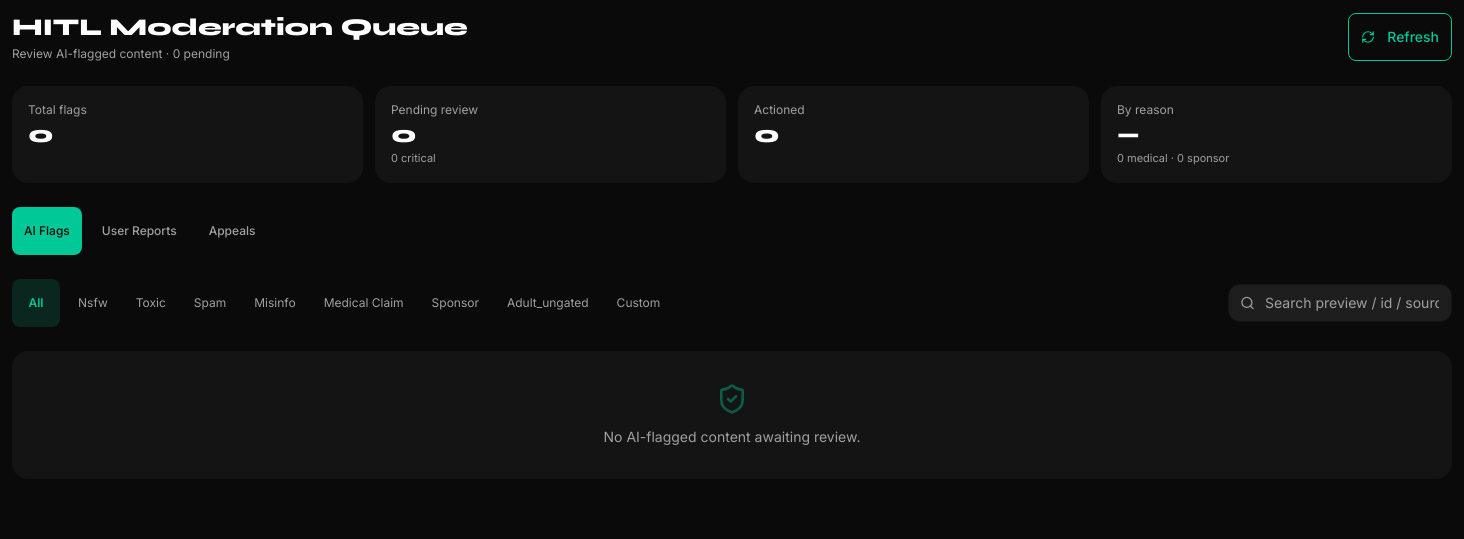
Scenario: ModerationQueue — appeal review sends resolution_note (regression) › surfaces the failure and keeps the appeal in the queue when the server refuses
Click the button "Appeals".
click(232, 230)  # box [197,206,267,254]
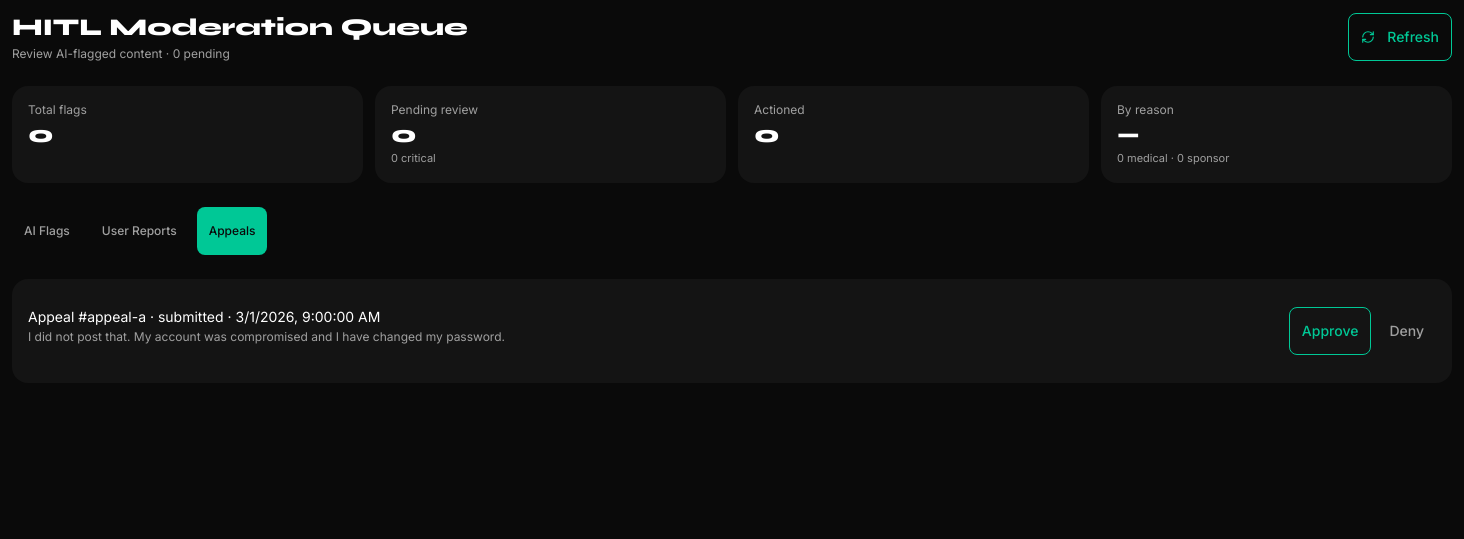
Now the text "Appeal #appeal-a · submitted · 3/1/2026, 9:00:00 AM" is shown, box [28,308,380,324]
Click the button "Approve".
click(1330, 330)  # box [1289,306,1371,354]
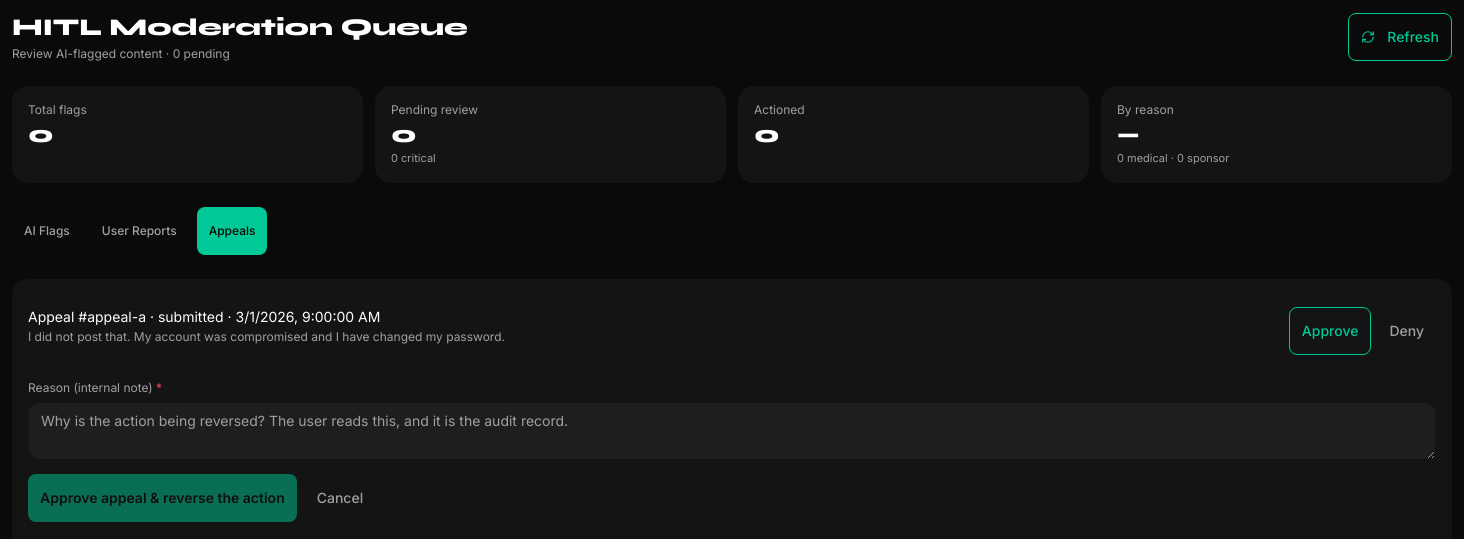
Replace the text in the text box named "Internal note" with "looks wrong to me" at (732, 430), box [28,402,1436,460]
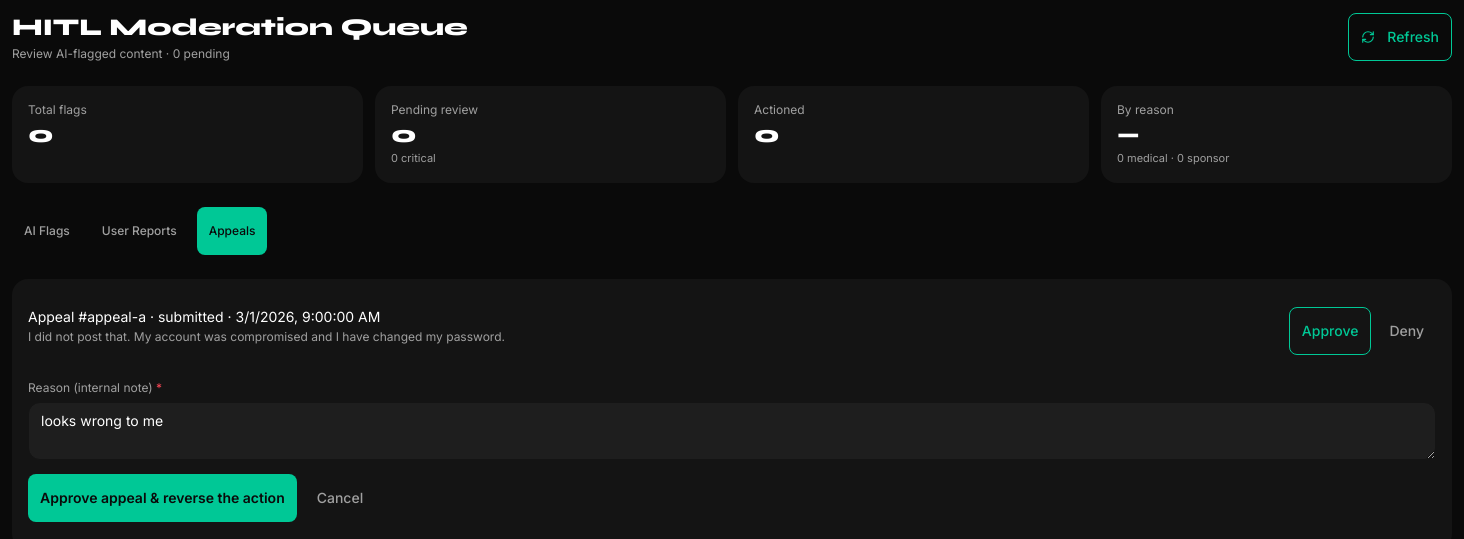
Click the button "Approve appeal & reverse the action".
click(162, 498)  # box [28,474,297,522]
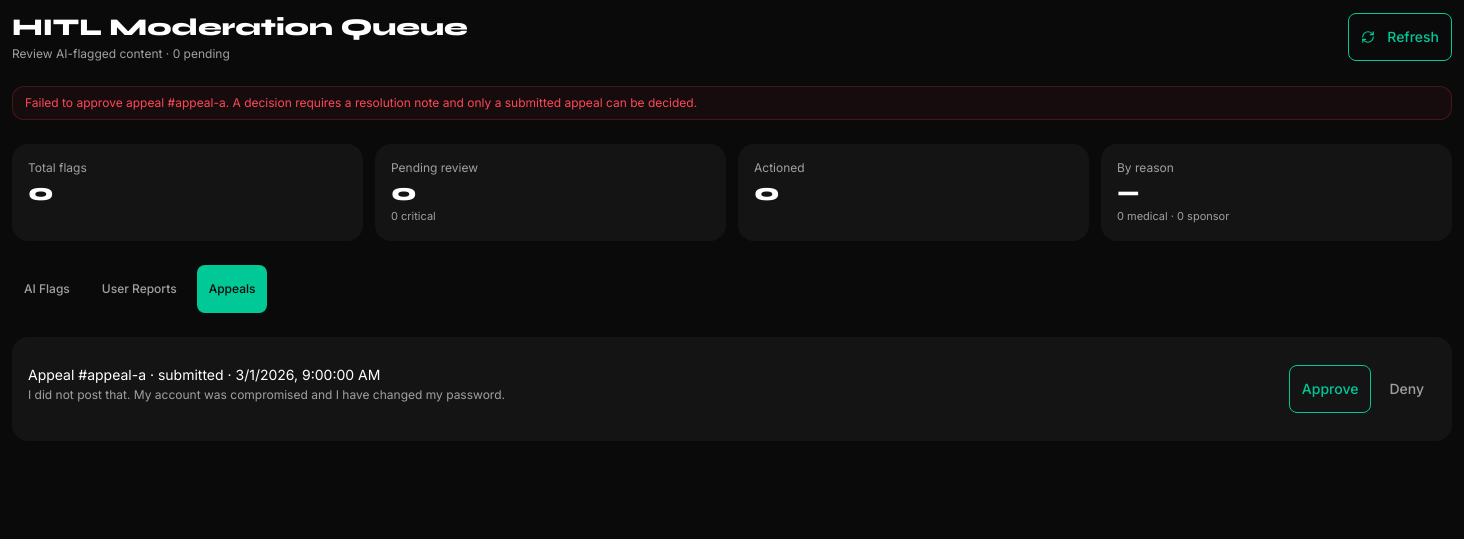
Now the text "Appeal #appeal-a · submitted · 3/1/2026, 9:00:00 AM" is shown, box [28,366,380,382]
Now the text "A decision requires a resolution note" is shown, box [25,95,697,110]
